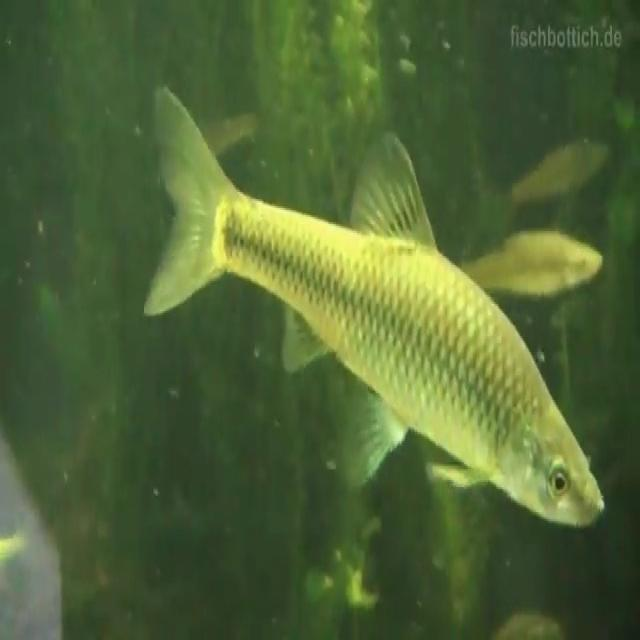Cakil Baligi: (146, 75, 609, 545)
